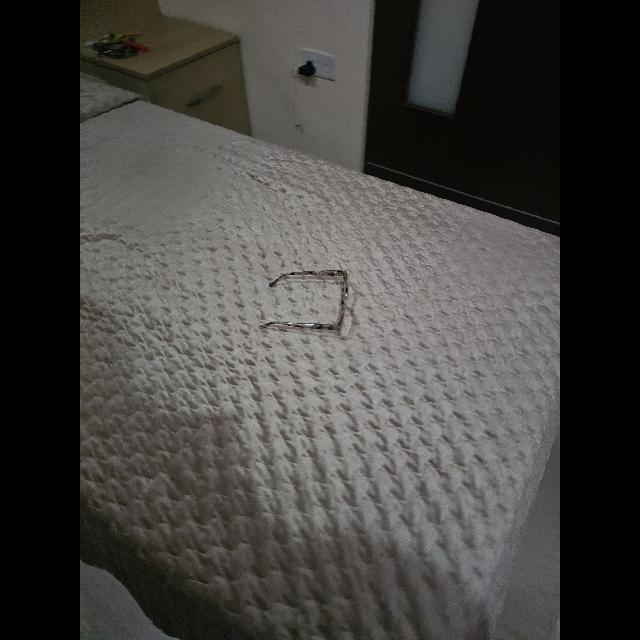glasses: (260, 270, 348, 330)
